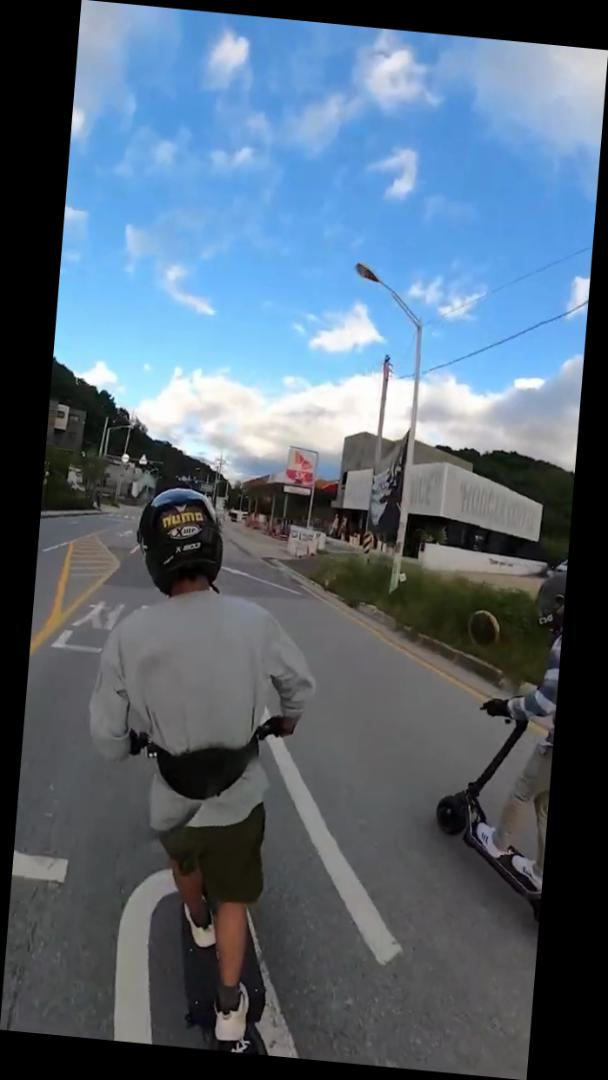helmet: (62, 479, 333, 1058), (424, 559, 567, 932)
